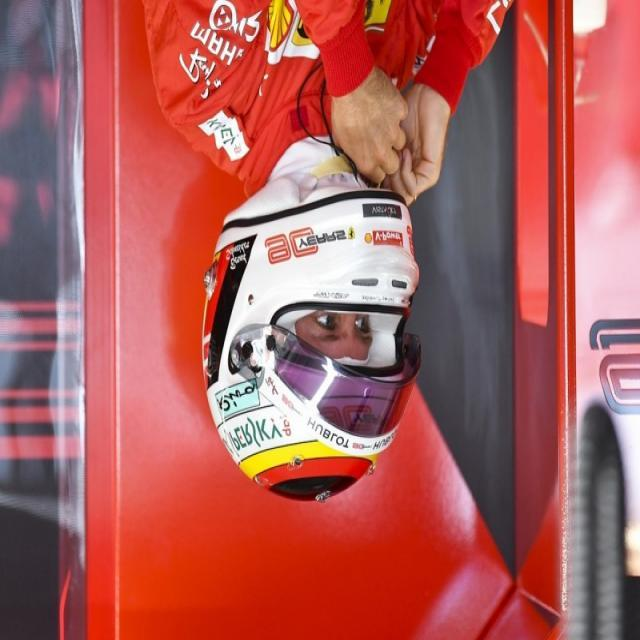Helm: (202, 189, 429, 513)
